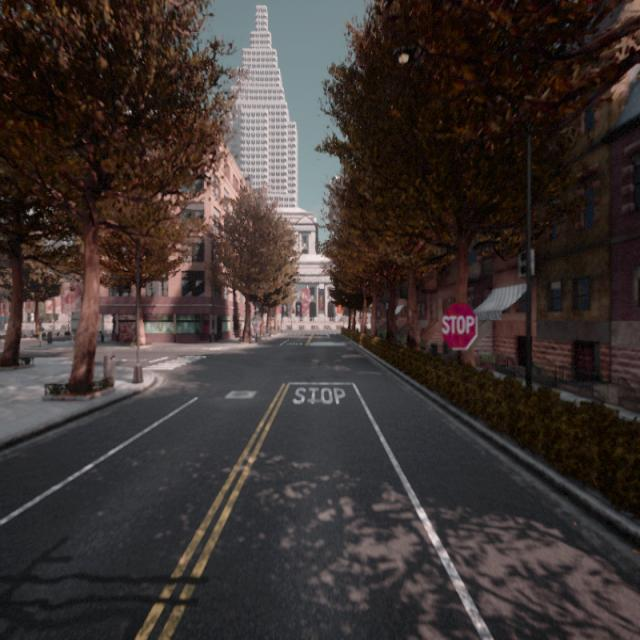stop sign: (438, 299, 479, 352)
